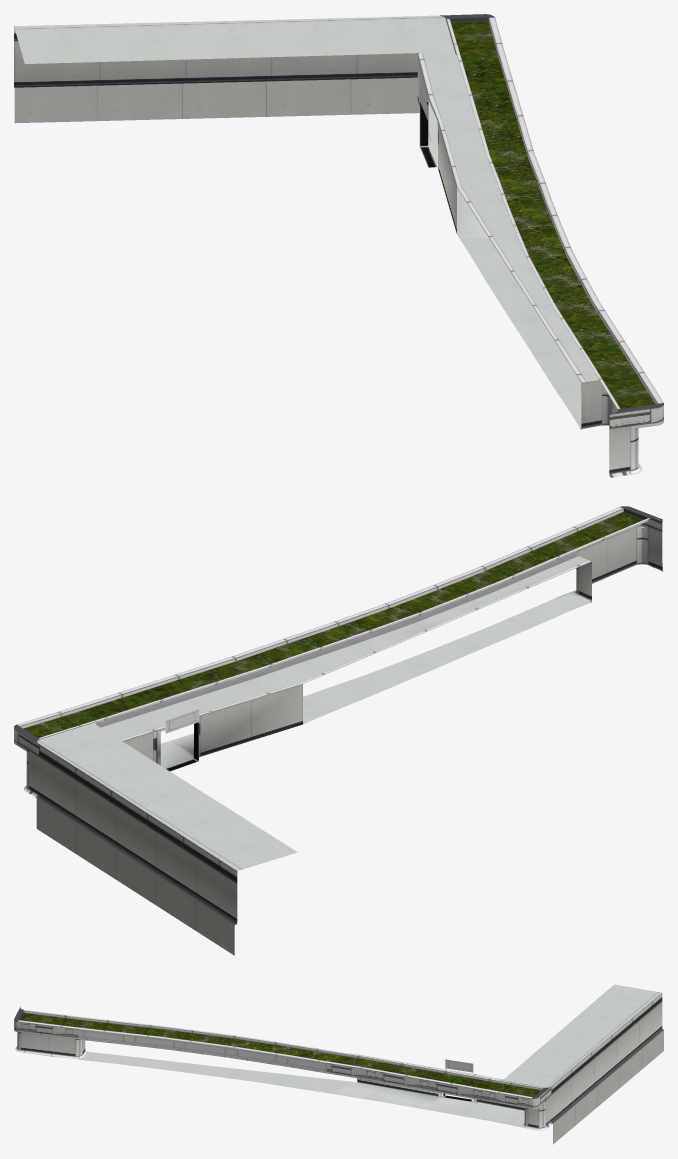
The model's file is sta20_storeext.FBX.
3 views of the same model, one above another, from view 1: azimuth 30°, elevation 25°; view 2: azimuth 150°, elevation 25°; view 3: azimuth 270°, elevation 25° (orthographic). The views are drawn at different scales.
Parts seen in each view (by area): view 1: sta20_storeext; view 2: sta20_storeext; view 3: sta20_storeext.
Part boxes in pixels (x1,y1,x2,y2): sta20_storeext: [14, 14, 663, 477]; sta20_storeext: [14, 506, 663, 955]; sta20_storeext: [14, 984, 663, 1144].
Bounding box in the file's own units: 27.34 × 6.44 × 65.5.
